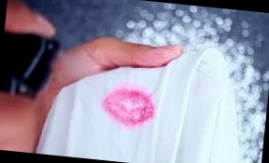lipstick: (97, 82, 155, 131)
